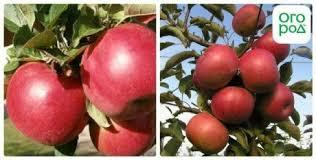Apple: (81, 23, 169, 119), (8, 61, 97, 144), (91, 106, 160, 156), (195, 44, 238, 91), (187, 111, 229, 155), (238, 49, 280, 93), (251, 82, 295, 121), (211, 86, 254, 123), (253, 30, 291, 64), (231, 5, 266, 36)
